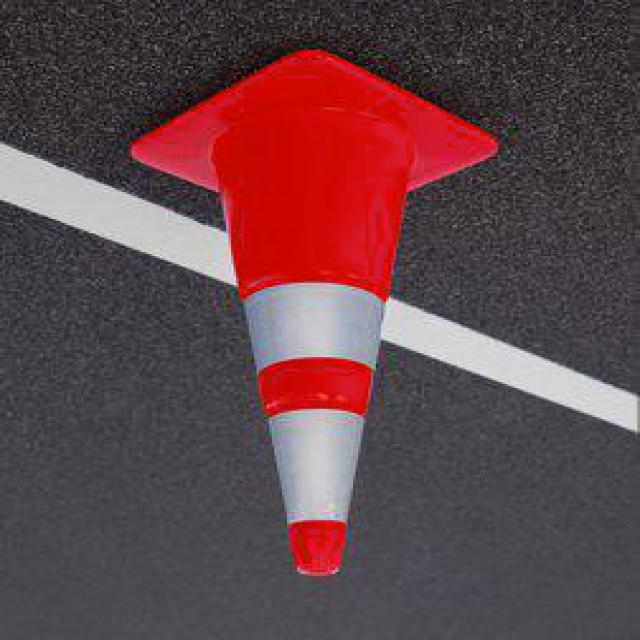cone: (116, 52, 508, 580)
